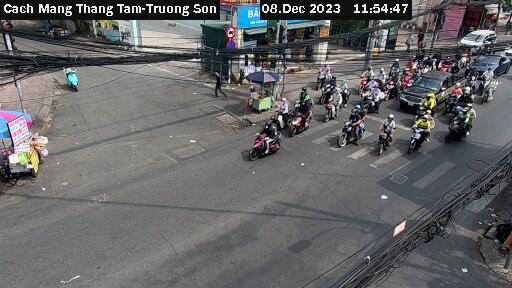car: (399, 71, 462, 111), (470, 50, 506, 78), (459, 27, 502, 50)
motorbike: (247, 124, 278, 159), (332, 111, 366, 141), (446, 109, 477, 139), (375, 119, 401, 151), (408, 115, 433, 146), (361, 90, 392, 115), (60, 65, 87, 92), (289, 109, 316, 133), (321, 92, 345, 115), (352, 63, 375, 86), (271, 104, 291, 127), (291, 91, 313, 110), (310, 63, 333, 79)
